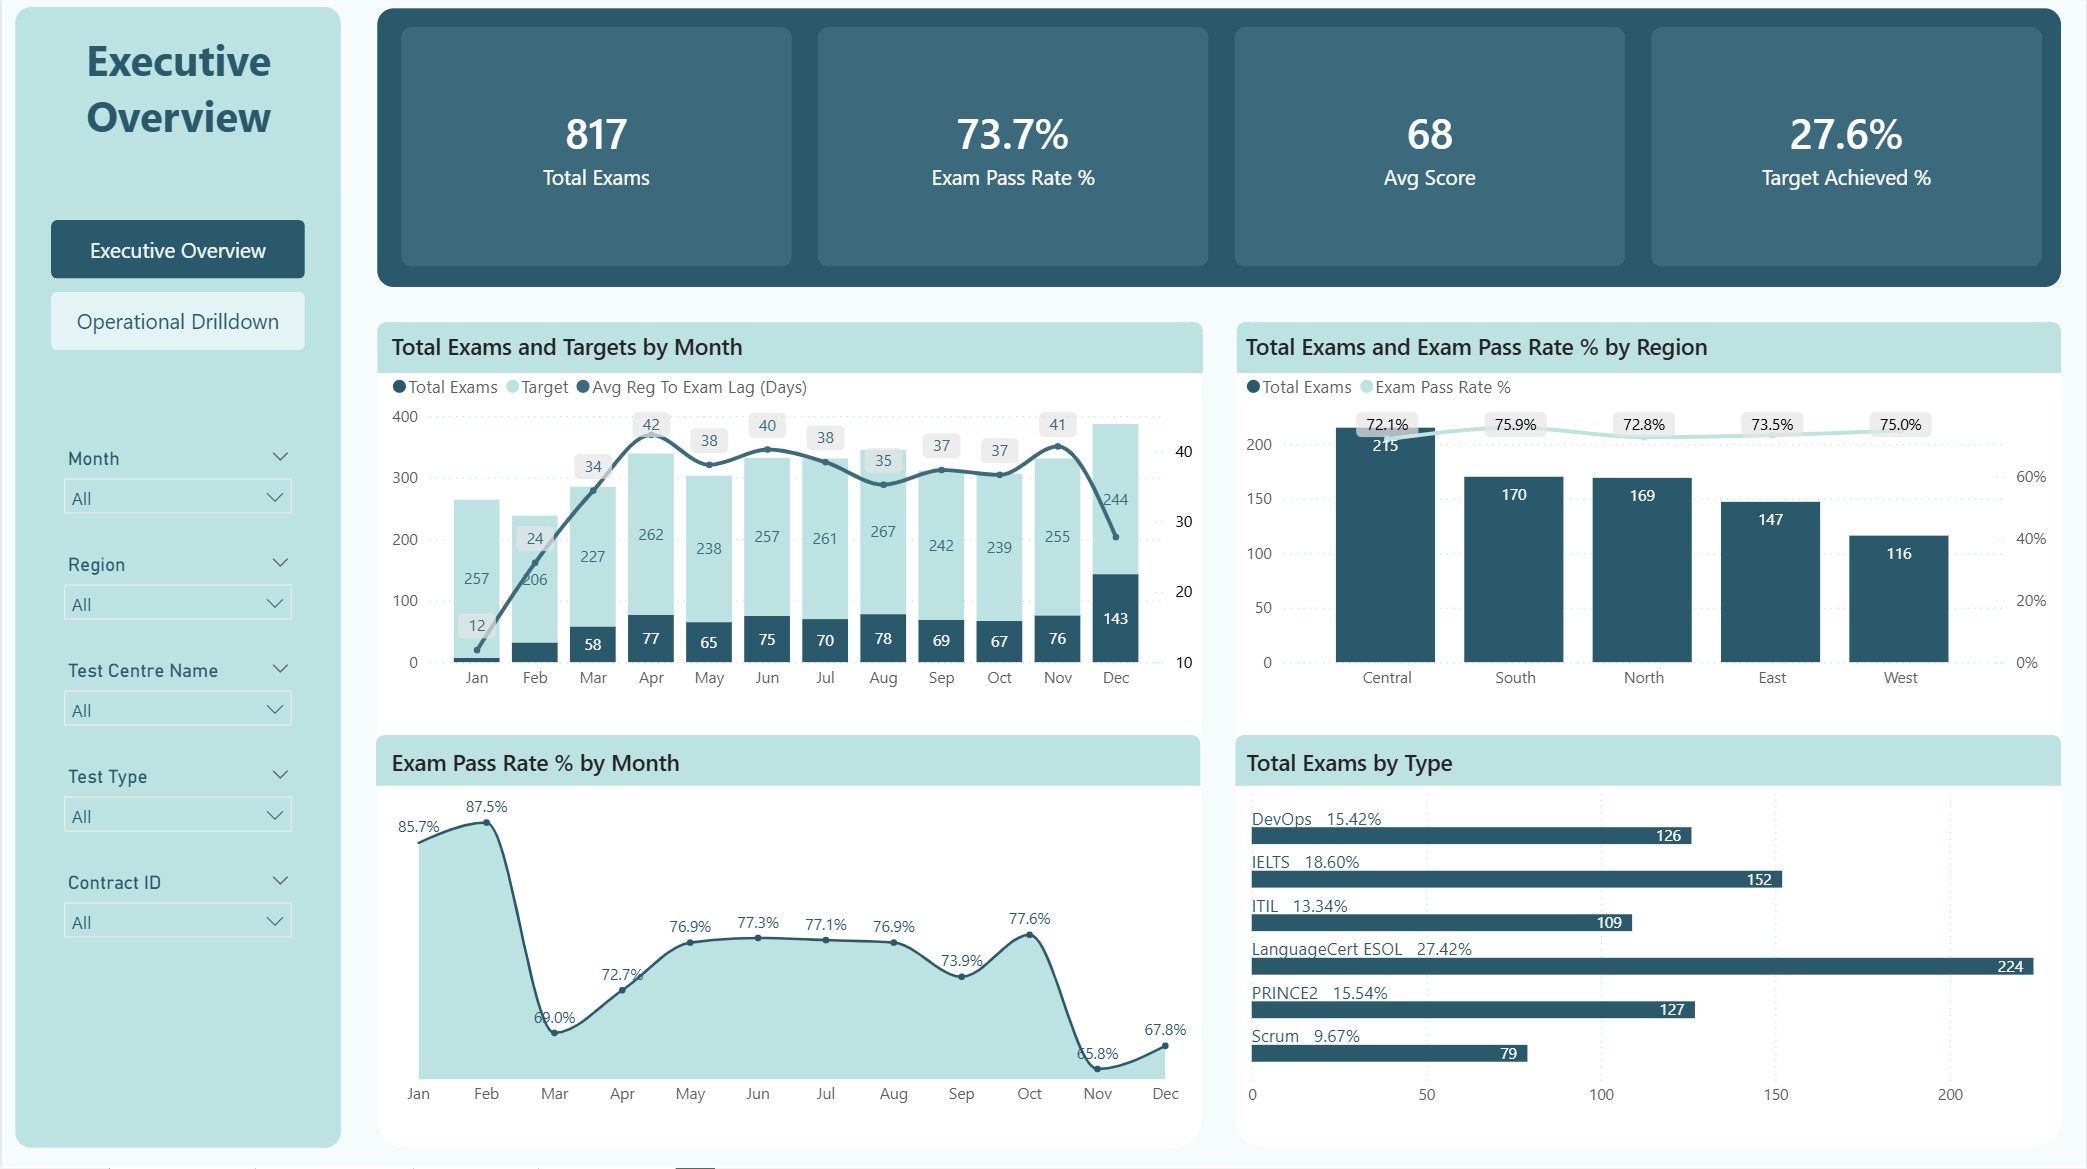

The page's visual inventory and layout, read from the dashboard file:
{"tool":"powerbi","page":{"name":"Executive Overview","canvas":[1600,900],"ordinal":0},"visuals":[{"type":"stackedAreaChart","fields":{"Category":["DimDate.Month"],"Y":["_Measures.Exam Pass Rate %"]},"box":[294.1,575.9,625.1,284.9],"z":0},{"type":"cardVisual","fields":{"Data":["_Measures.Total Exams","_Measures.Exam Pass Rate %","_Measures.Avg Score","_Measures.Target Achieved %"]},"box":[299.5,13.9,1275.2,204],"z":1000},{"type":"lineStackedColumnComboChart","title":"Total Exams and Targets by Month","fields":{"Category":["DimDate.Month"],"Y":["_Measures.Total Exams","_Measures.Target (Monthly)"],"Y2":["_Measures.Avg Reg To Exam Lag (Days)"]},"box":[294.3,256.3,625,285.4],"z":2000},{"type":"lineStackedColumnComboChart","fields":{"Category":["DimRegion.Region"],"Y":["_Measures.Total Exams"],"Y2":["_Measures.Exam Pass Rate %"]},"box":[950,256.3,625,285.4],"z":3000},{"type":"clusteredBarChart","title":"Total Exams by Type","fields":{"Category":["DimCandidate.TestType"],"Y":["_Measures.Clustered Bar Chart - Label Placeholder","_Measures.Total Exams"]},"box":[950.4,576.3,624.3,285.6],"z":4000},{"type":"pageNavigator","box":[38,172.2,195,100.3],"z":5000},{"type":"textbox","box":[11.3,21.8,248.2,96.2],"z":6000},{"type":"slicer","fields":{"Values":["DimCandidate.TestType"]},"box":[38,586.6,194.8,70.3],"z":7000},{"type":"slicer","fields":{"Values":["DimDate.Month"]},"box":[38,342.8,194.8,70.3],"z":8000},{"type":"slicer","fields":{"Values":["DimContract.ContractId"]},"box":[38,667.8,194.8,70.3],"z":9000},{"type":"slicer","fields":{"Values":["DimTestCentre.Name"]},"box":[38,505.3,194.8,70.3],"z":10000},{"type":"slicer","fields":{"Values":["DimRegion.Region"]},"box":[38,424.1,194.8,70.3],"z":11000}]}

Visuals, with their boxes in screenshot pixels (x1, y1, x2, y2), scaled from the page's 1600x900 canvas onto the 2087x1169 screenshot:
stackedAreaChart - DimDate.Month x _Measures.Exam Pass Rate %: (x1=384, y1=748, x2=1199, y2=1118)
cardVisual - _Measures.Total Exams x _Measures.Exam Pass Rate %: (x1=391, y1=18, x2=2054, y2=283)
"Total Exams and Targets by Month" lineStackedColumnComboChart: (x1=384, y1=333, x2=1199, y2=704)
lineStackedColumnComboChart - DimRegion.Region x _Measures.Total Exams: (x1=1239, y1=333, x2=2054, y2=704)
"Total Exams by Type" clusteredBarChart: (x1=1240, y1=749, x2=2054, y2=1120)
pageNavigator: (x1=50, y1=224, x2=304, y2=354)
textbox: (x1=15, y1=28, x2=338, y2=153)
slicer - DimCandidate.TestType: (x1=50, y1=762, x2=304, y2=853)
slicer - DimDate.Month: (x1=50, y1=445, x2=304, y2=537)
slicer - DimContract.ContractId: (x1=50, y1=867, x2=304, y2=959)
slicer - DimTestCentre.Name: (x1=50, y1=656, x2=304, y2=748)
slicer - DimRegion.Region: (x1=50, y1=551, x2=304, y2=642)
